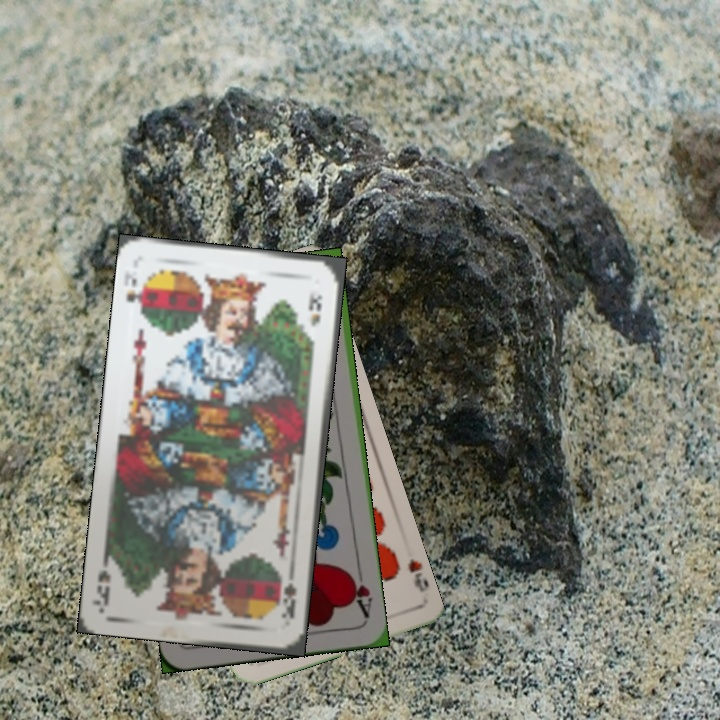H9: (404, 555, 430, 595)
HA: (344, 563, 375, 621)
SK: (274, 571, 299, 622), (122, 270, 149, 317)
